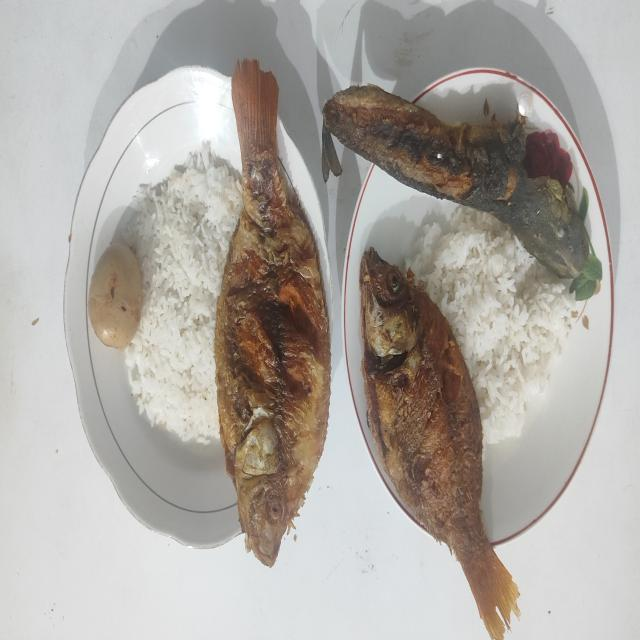ikan_mujair: (360, 247, 520, 640), (215, 59, 331, 566)
nasi_putih: (402, 200, 578, 444), (125, 142, 242, 442)
